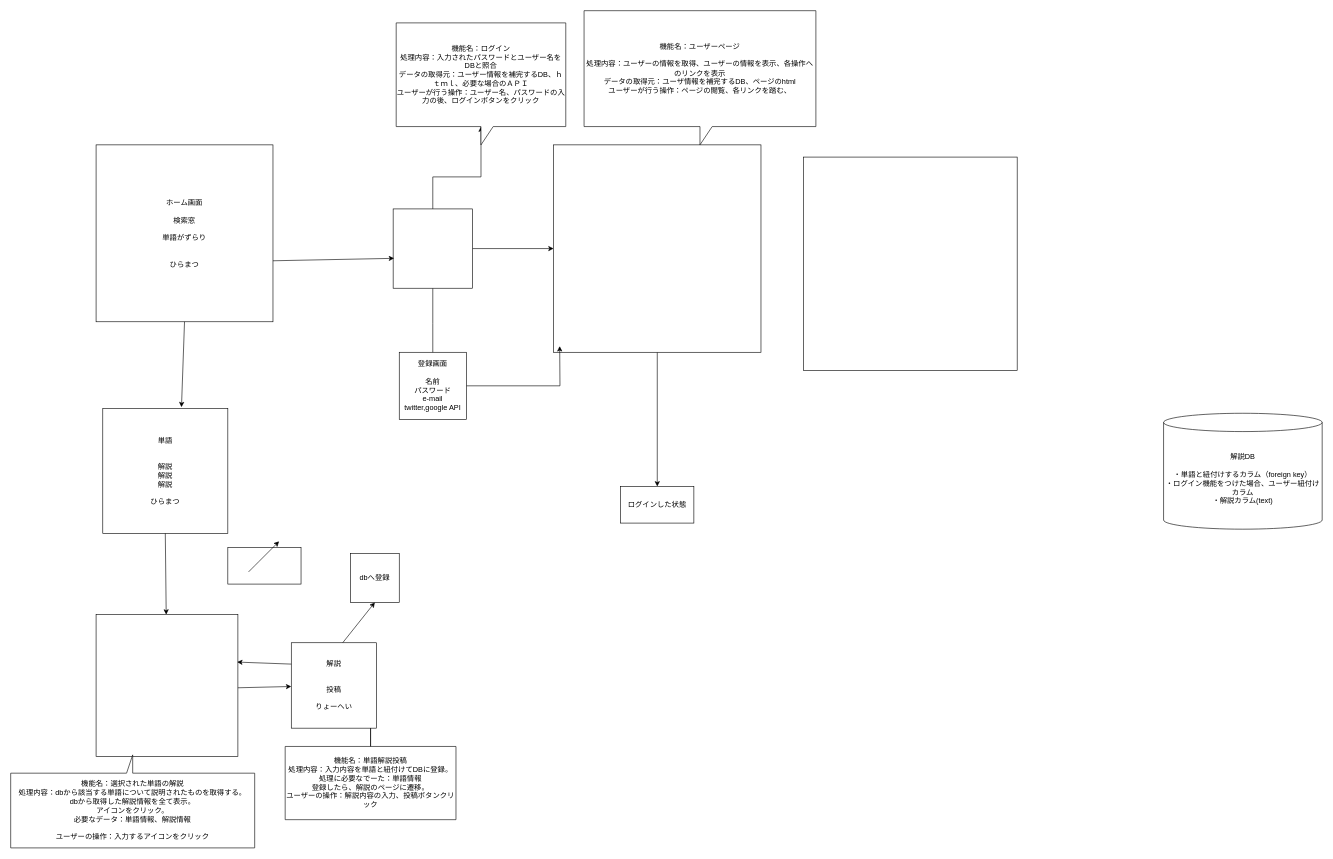
The diagram is 1333 pixels wide and 859 high, and some of its shapes have lost their labels. The shapes that lost their labels are listed below. From the top down, each one's centre as x and y in pixels, then its label:
At (432,248): "ログイン パスワード ユーザー名 ひろみ".
At (657,248): "ユーザーページ ユーザー名 過去の投稿一覧 ログアウト s".
At (910,263): "機能名 処理内容 処理に必要なデータ データの取得元 ユーザーが行い操作".
At (264,565): "dbへ検索".
At (166,685): "単語の解説 書き込むアイコン りょーへい".
